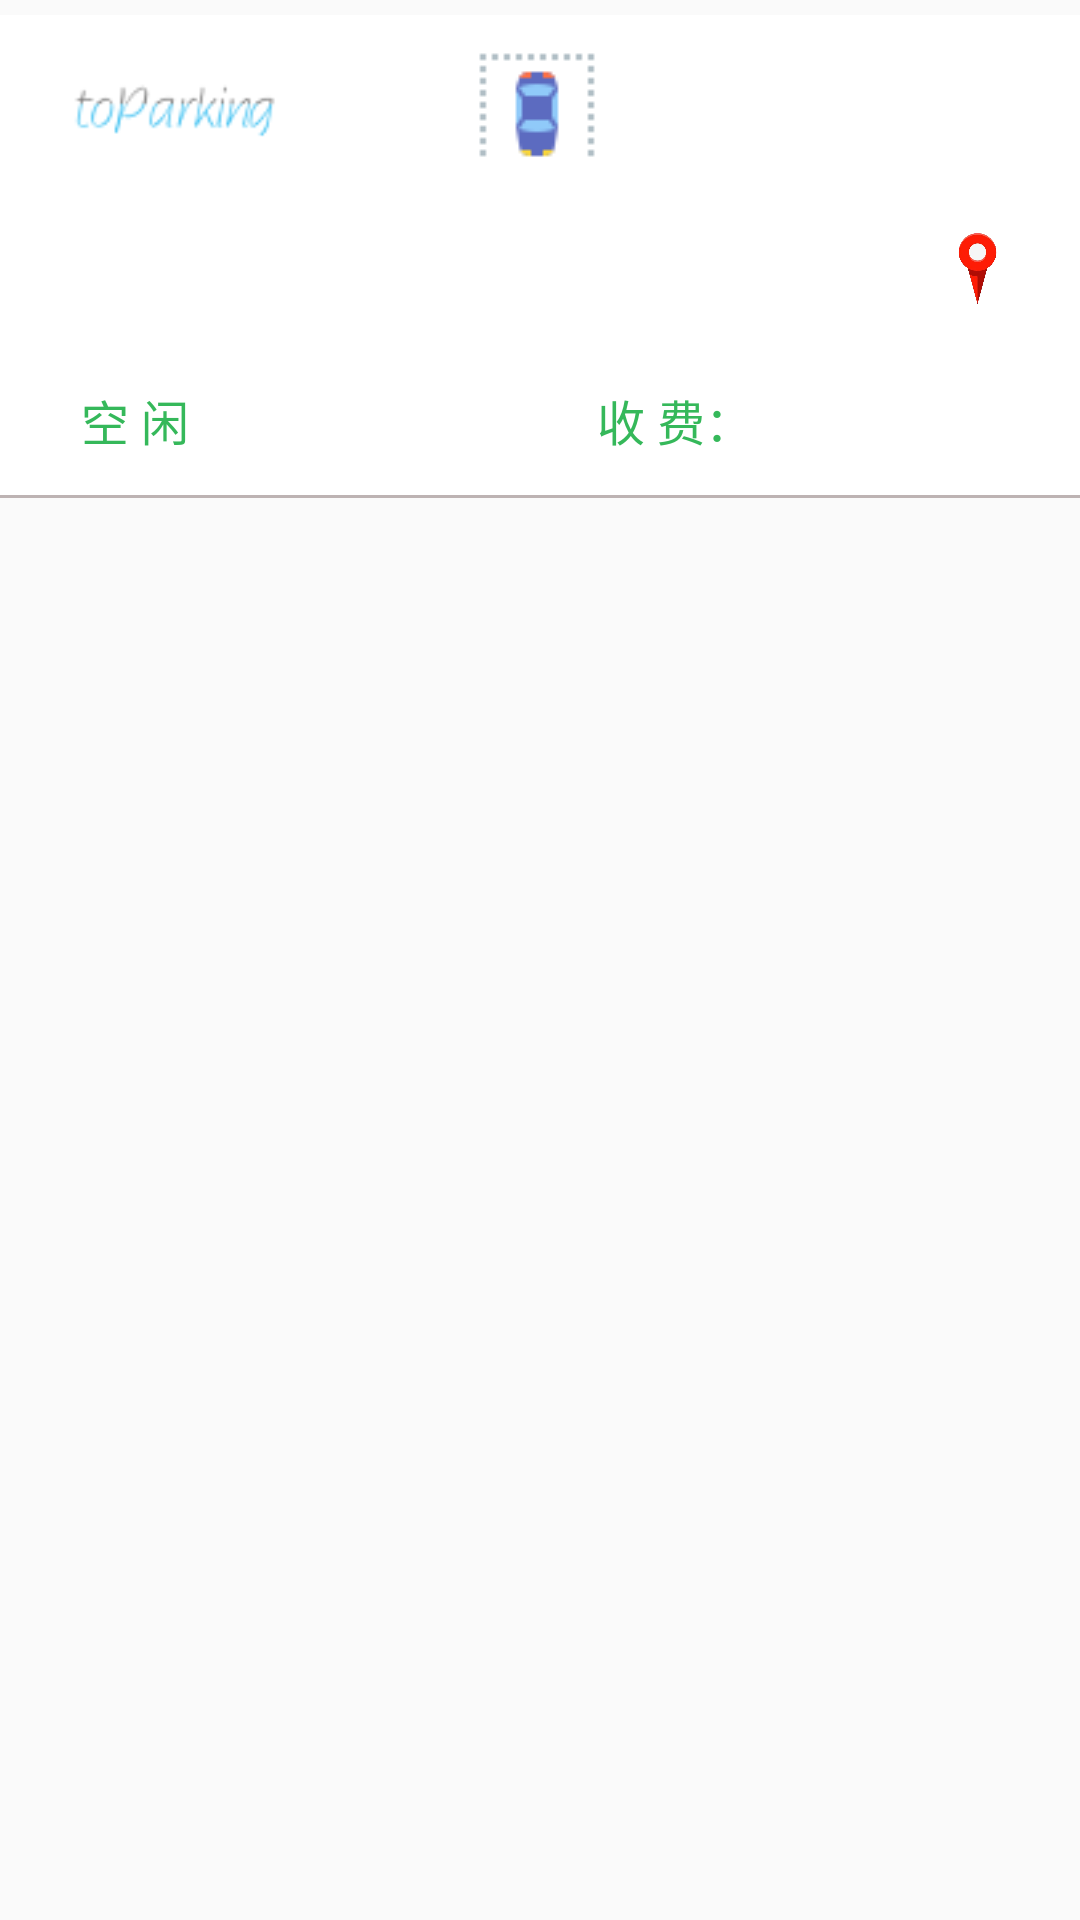

Icons on this 1080px x 1920px Android screen, each with the point to tap as [x,y]:
location: [978,268]
